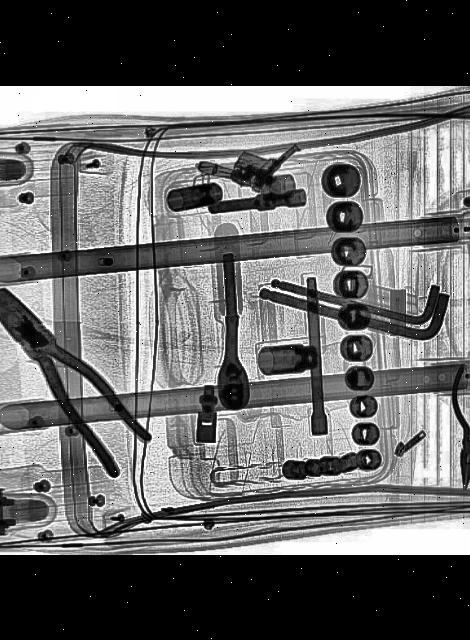Gun: (193, 122, 298, 194)
Pliers: (0, 274, 163, 477), (442, 362, 470, 491)
